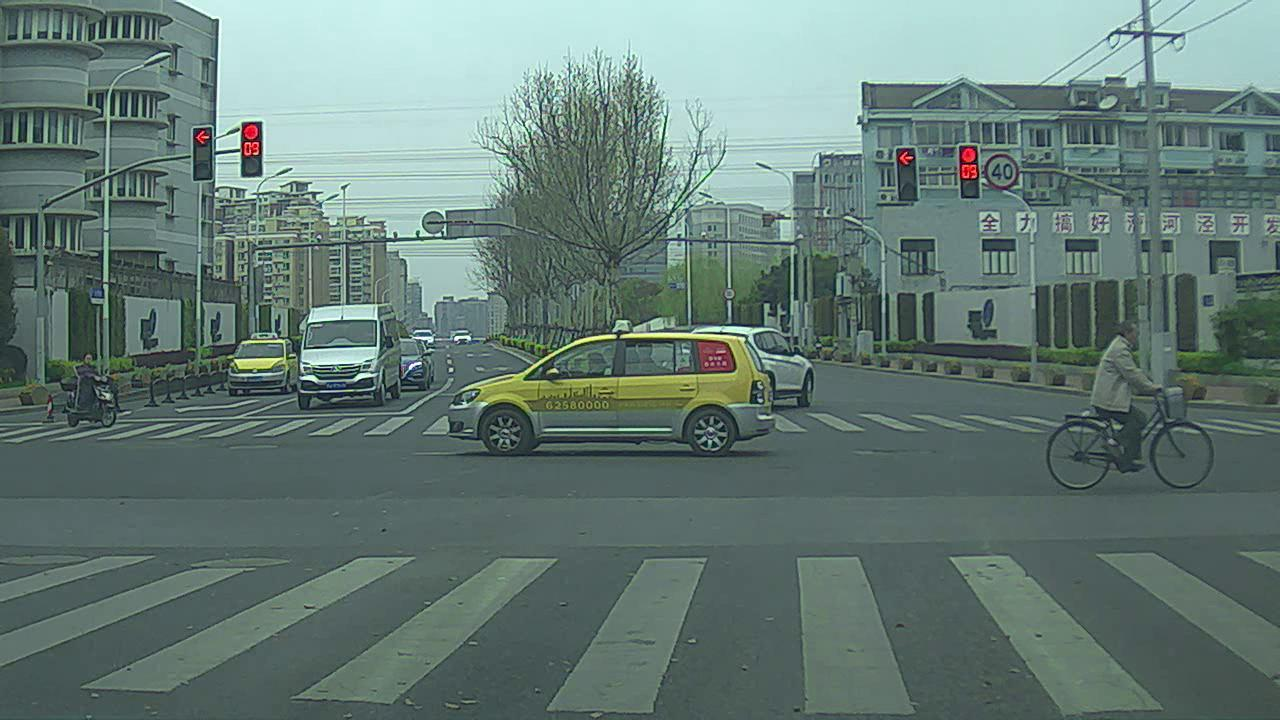traffic_light: (189, 125, 217, 187), (892, 143, 922, 198), (958, 144, 985, 200), (240, 121, 266, 176)
